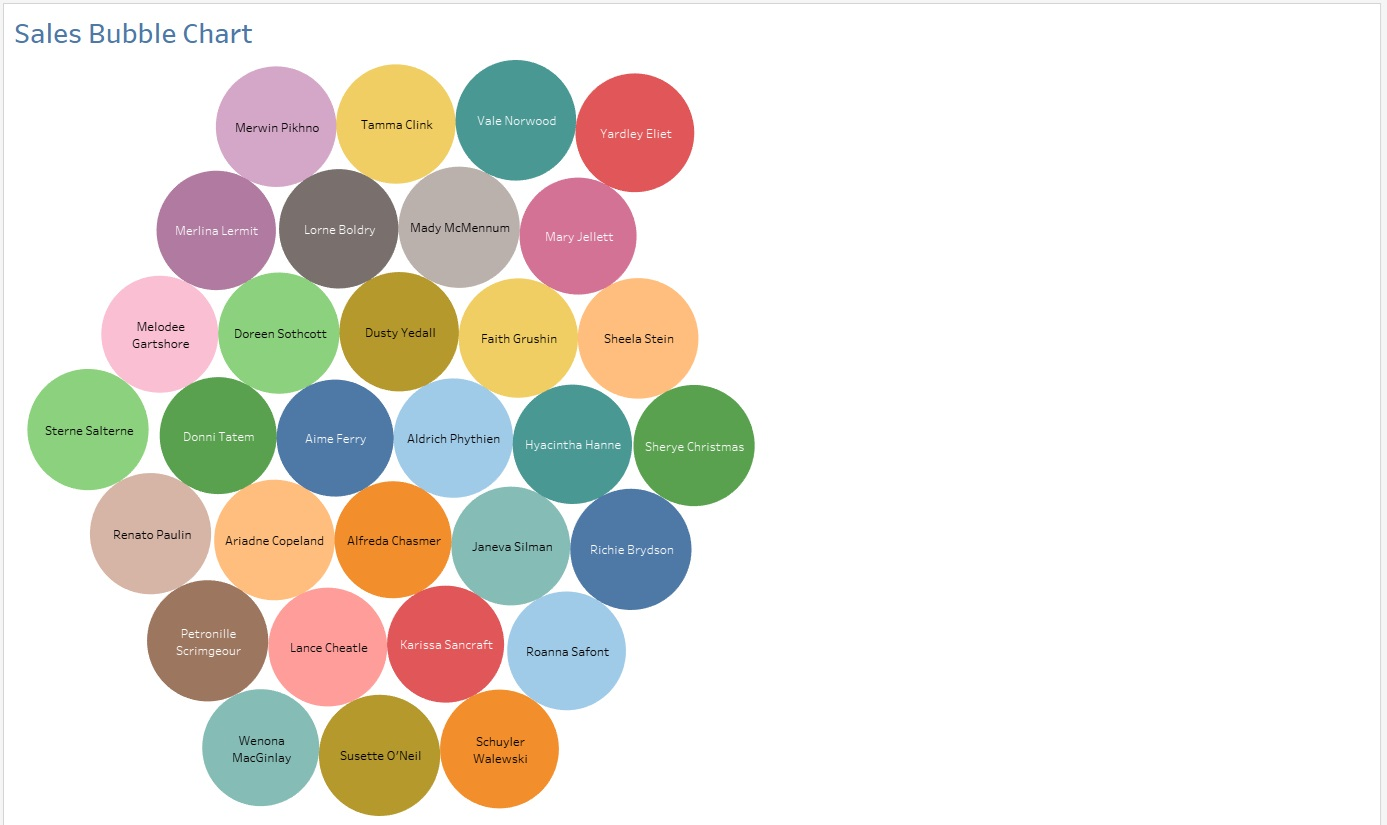

The dashboard page shown, as its layout file describes it:
{"tool":"tableau","page":{"name":"Dashboard 1","canvas":[650,860],"ordinal":0},"visuals":[{"type":"worksheet","title":"Sheet 1","mark":"Automatic","rows":["Sales"],"cols":["Customer Name"],"box":[8,9.9,634,420.5]},{"type":"worksheet","title":"Sheet 3","mark":"Circle","box":[8,430.4,634,419.8]}]}

Visuals, with their boxes on the page's 650x860 design canvas (x1, y1, x2, y2). These are canvas units, not pixel positions in the 1387x825 screenshot, which may show the page scaled, cropped or inside an application window:
"Sheet 1" worksheet: [x1=8, y1=10, x2=642, y2=430]
"Sheet 3" worksheet (Circle marks): [x1=8, y1=430, x2=642, y2=850]
